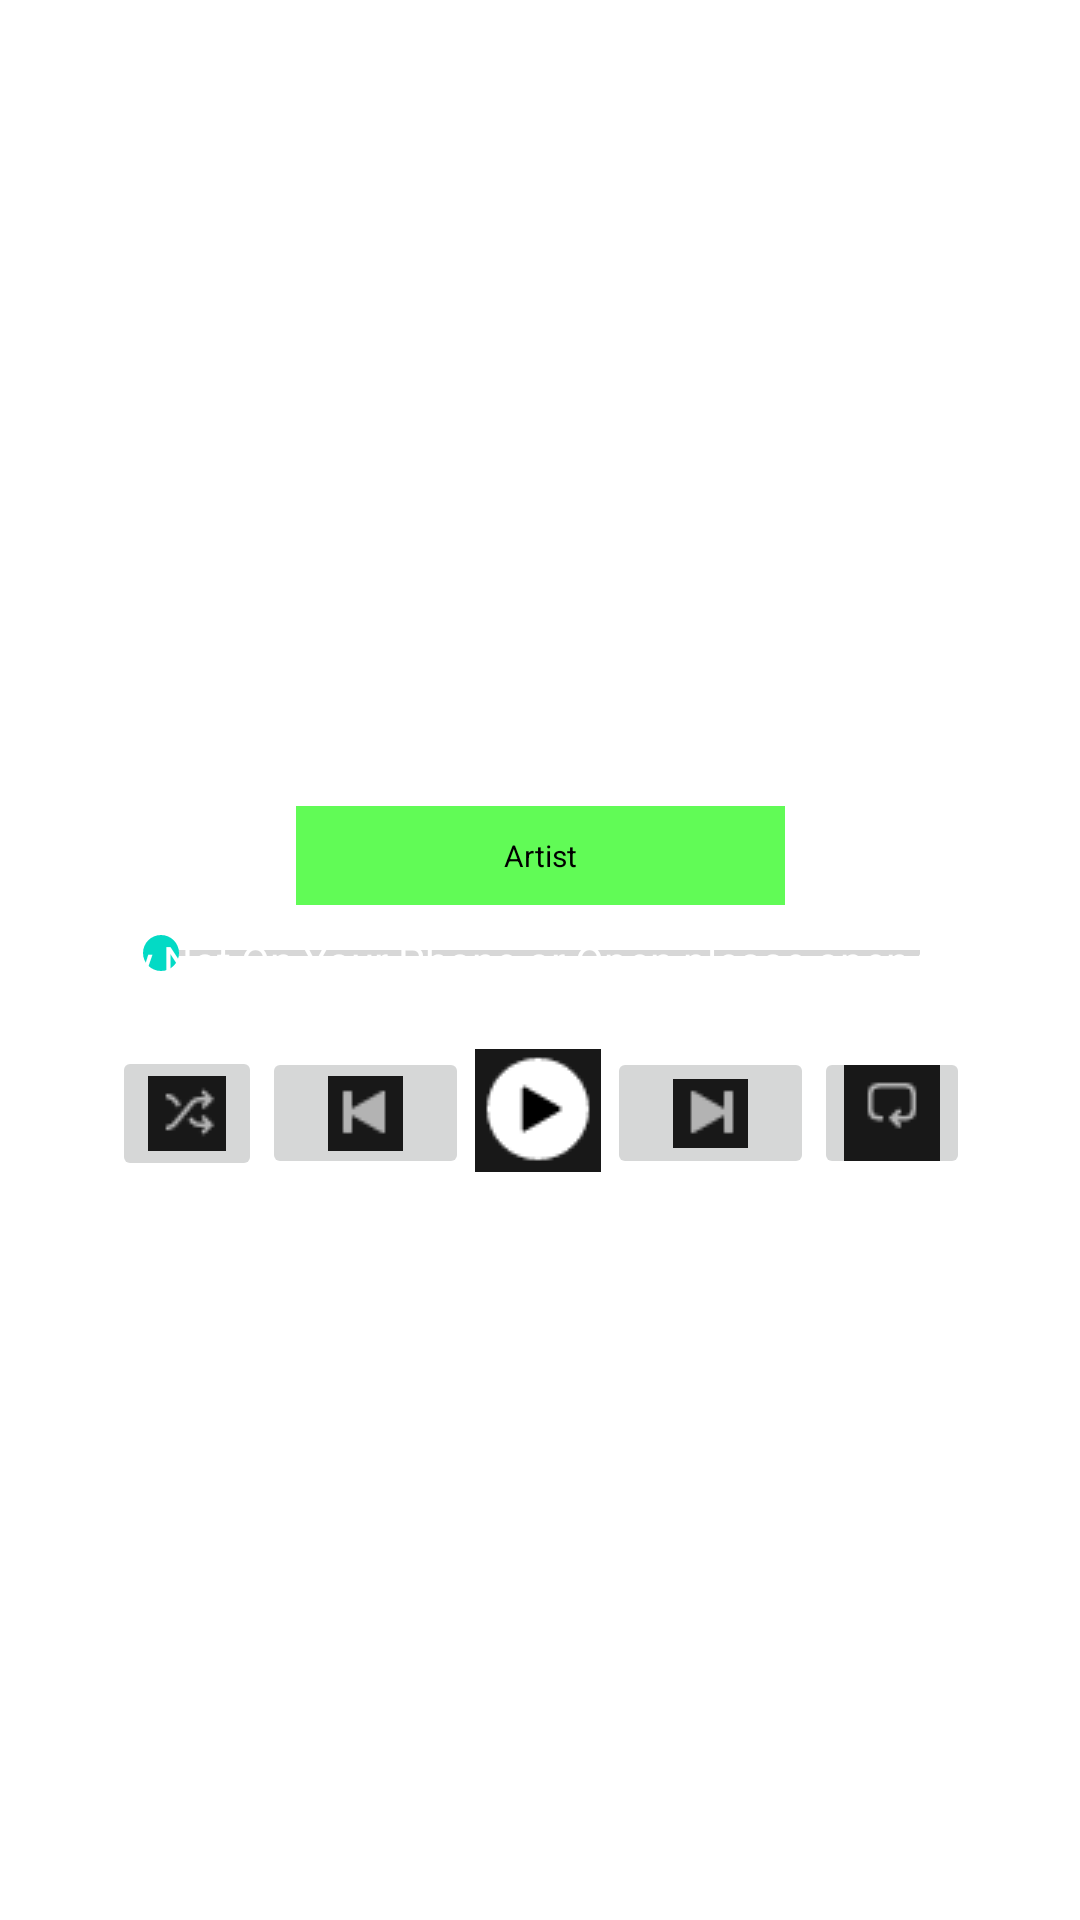

Where icons sit on this 1080px×1920px app screen, as region(x1, y1, x2, y2):
play: region(475, 1049, 601, 1172)
repeat off: region(826, 1065, 958, 1161)
shuffle off: region(124, 1064, 250, 1163)
skip: region(619, 1065, 802, 1161)
skip back: region(274, 1065, 457, 1161)
